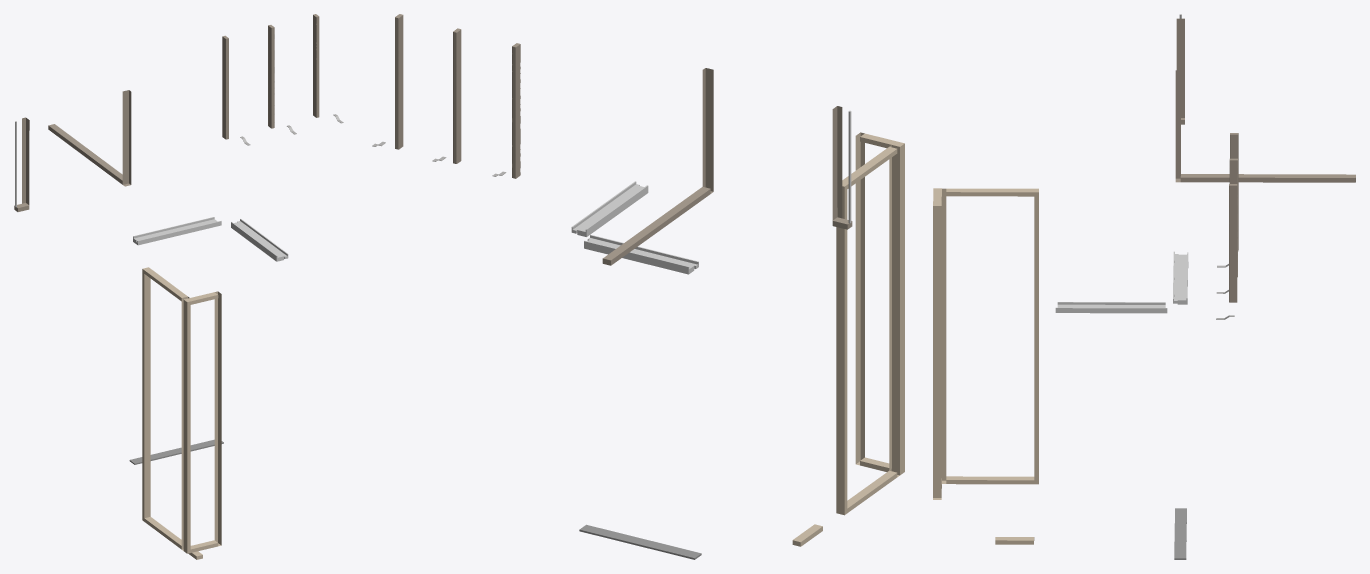
The picture shows the model from 3 angles, left to right: view 1: azimuth 30°, elevation 25°; view 2: azimuth 150°, elevation 25°; view 3: azimuth 270°, elevation 25°; orthographic projection. The views are drawn at different scales.
Size of the model in its own units: 3.85 by 4.44 by 3.53.
